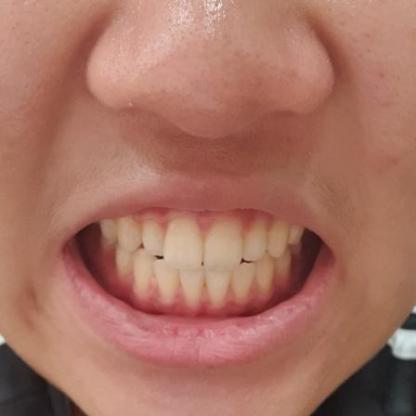Healthy: (163, 217, 244, 271), (119, 213, 162, 253), (243, 224, 288, 259), (182, 270, 227, 299)
